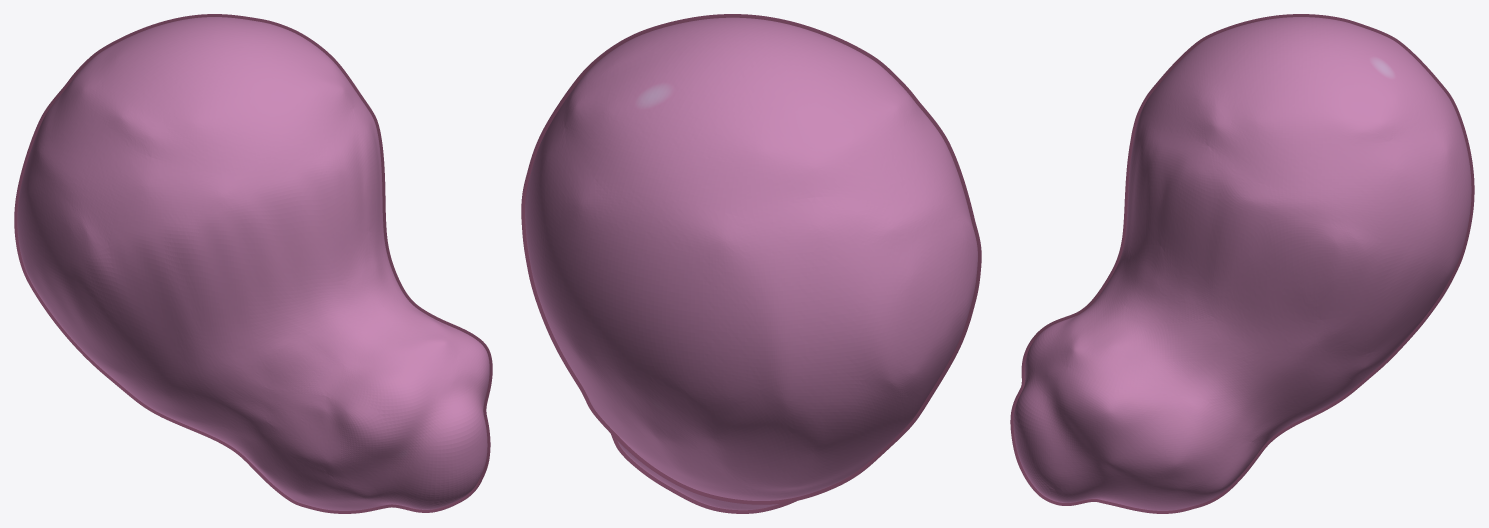
Rendered from though5.glb.
The picture shows the model from 3 angles, left to right: view 1: azimuth 30°, elevation 25°; view 2: azimuth 150°, elevation 25°; view 3: azimuth 270°, elevation 25°; orthographic projection. The views are drawn at different scales.
Parts seen in each view (by area): view 1: Mball.004; view 2: Mball.004; view 3: Mball.004.
Boxes of the visible parts, bbox=[...] form: Mball.004: bbox=[14, 14, 492, 513]; Mball.004: bbox=[521, 14, 981, 513]; Mball.004: bbox=[1010, 14, 1474, 513].
Size of the model in its own units: 0.4094 by 0.4832 by 0.4628.
Materials: 2 (1 with a texture image).
